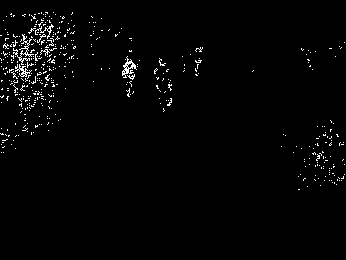person: (121, 55, 139, 99)
